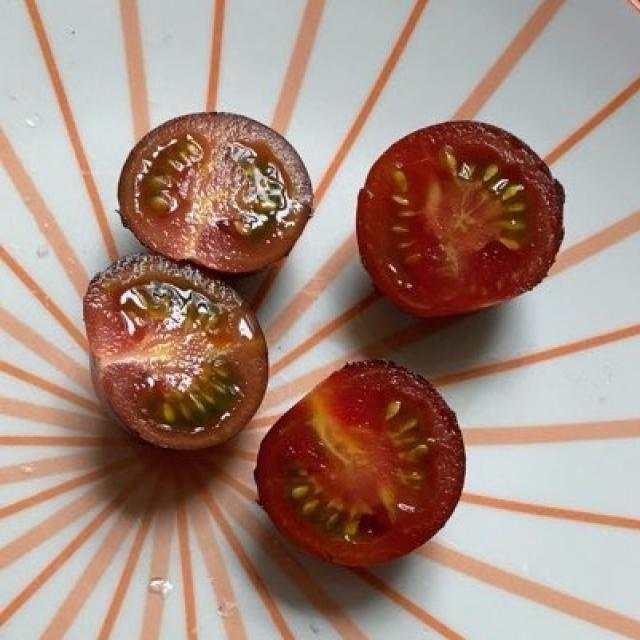tomato: (89, 110, 564, 583)
